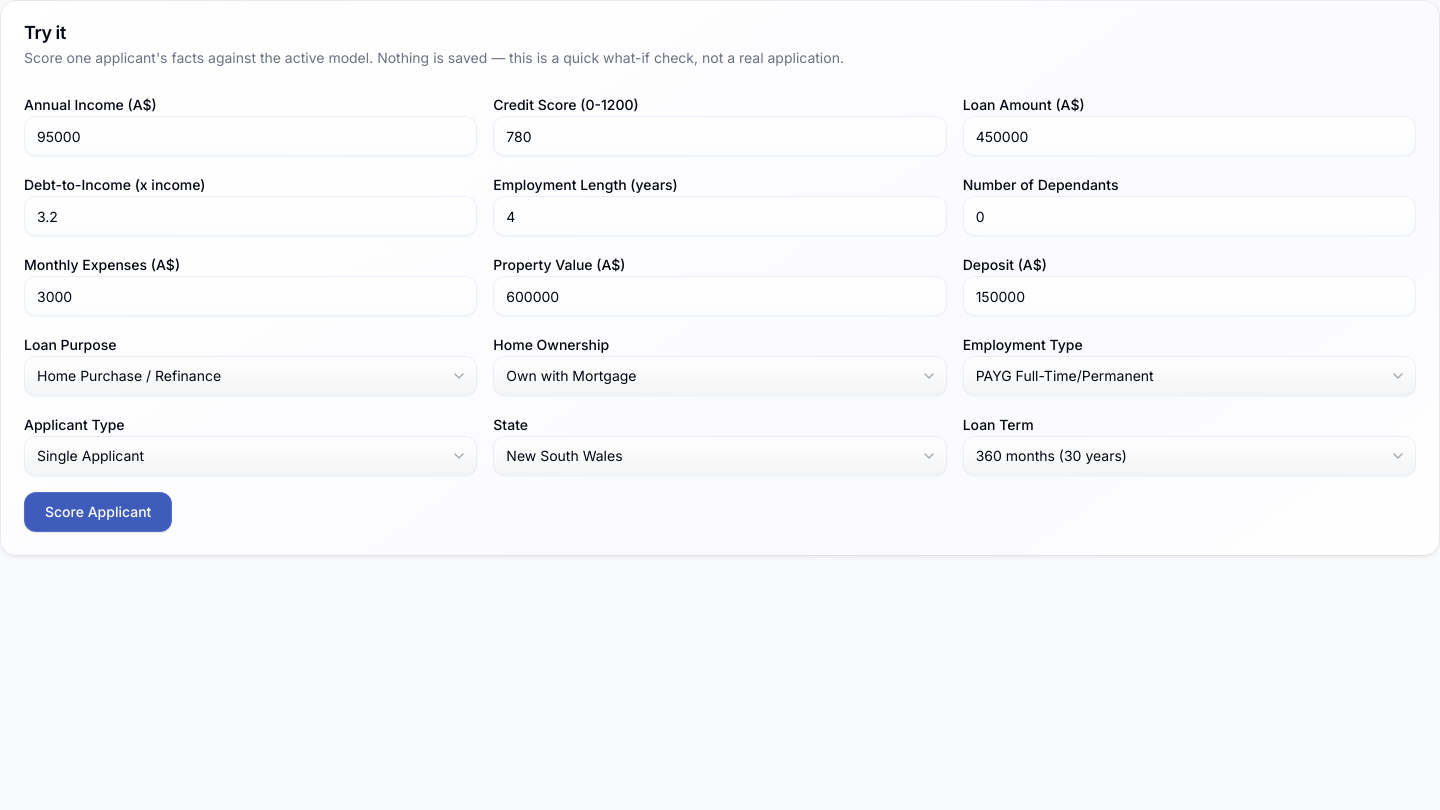
TryItTab › renders a 400 detail message inline
Click the button "Score Applicant" at [98, 512], box [24,492,172,532]
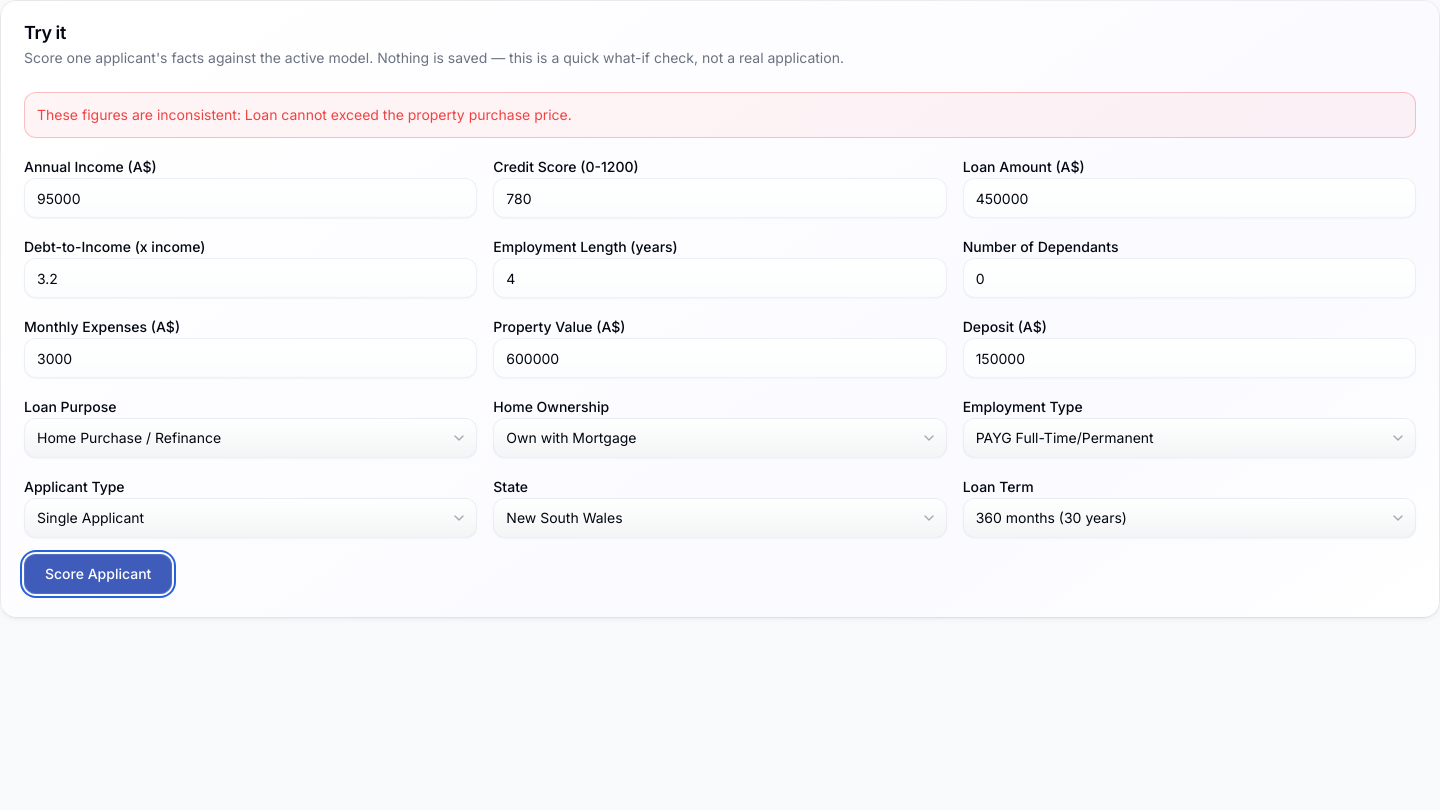
Expected: the text "Loan cannot exceed the property purchase price" is shown, [37,106,572,123]
